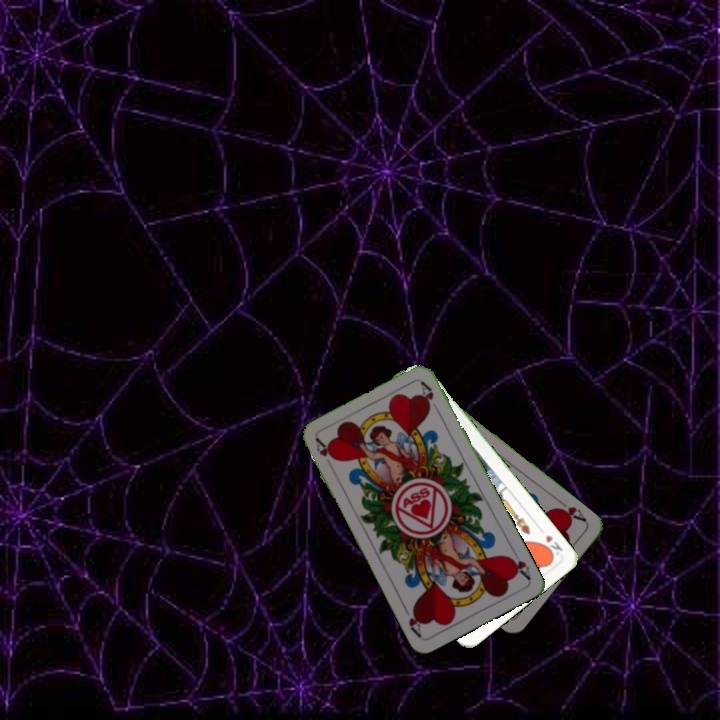HA: (552, 496, 589, 525), (504, 545, 533, 582), (311, 434, 338, 463)
HK: (542, 531, 565, 558)
